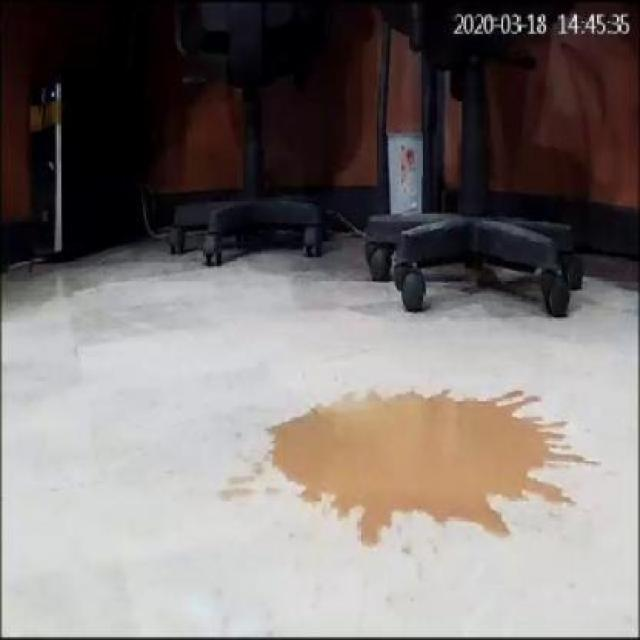spillage: (265, 390, 585, 548)
